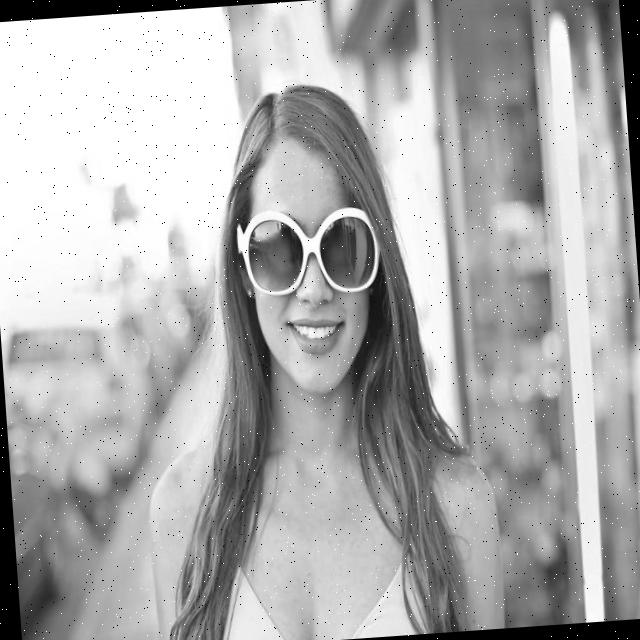Happiness: (238, 140, 377, 400)
